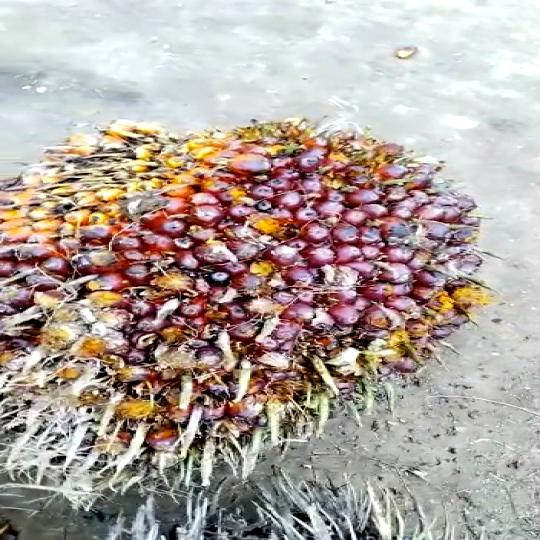masak: (0, 119, 494, 465)
